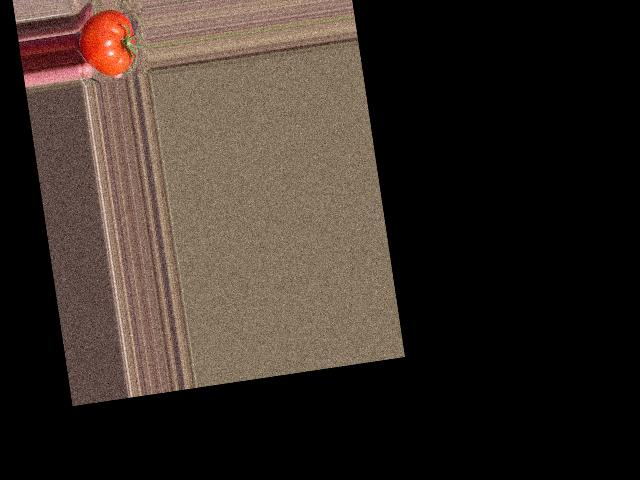tomato: (75, 7, 139, 79)
